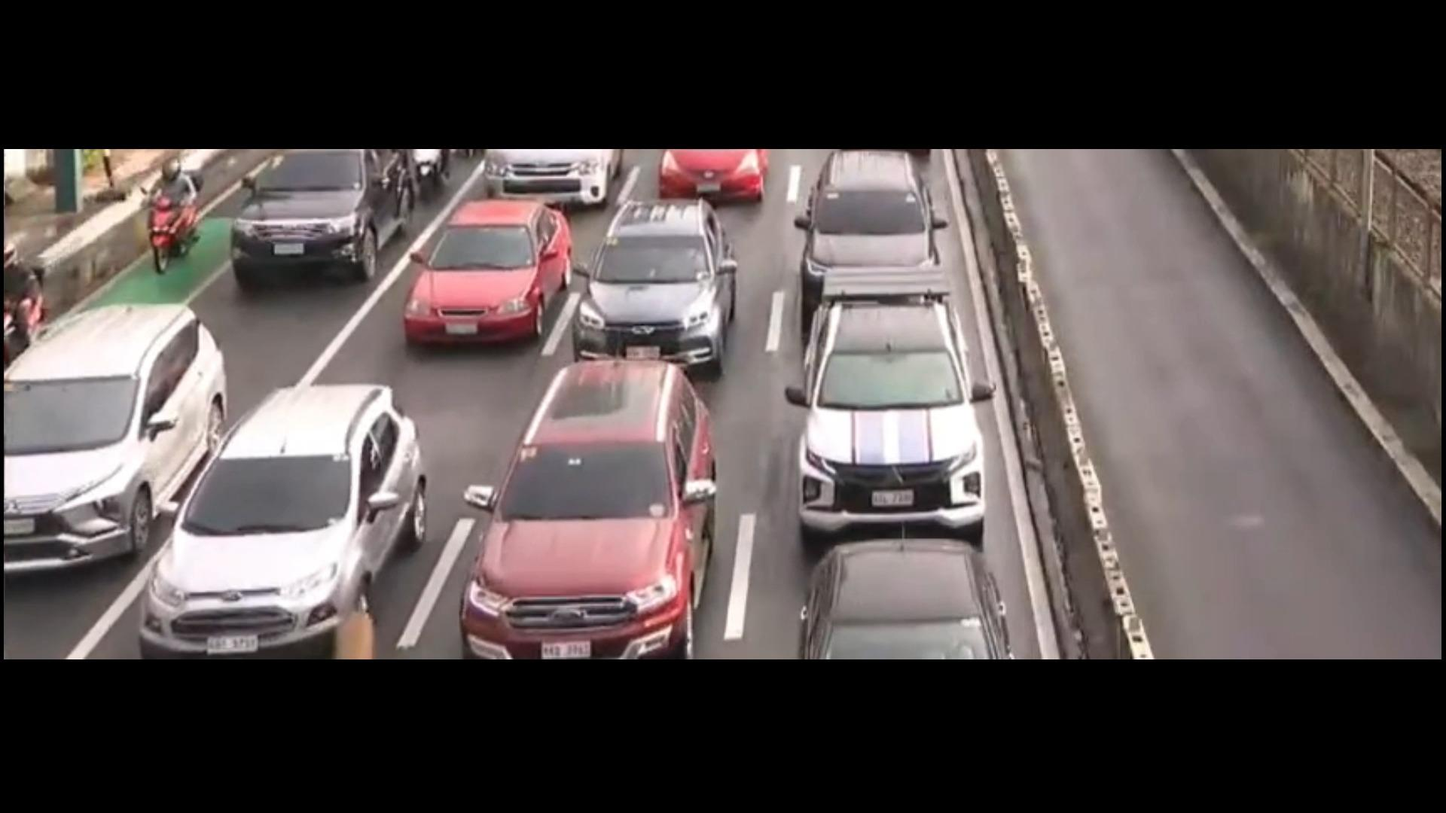Motorcycle: (123, 164, 209, 286), (0, 230, 63, 349), (401, 141, 448, 202)
SUV: (459, 345, 735, 651), (131, 377, 420, 653), (0, 286, 253, 564), (777, 286, 1000, 540), (775, 147, 951, 318), (564, 207, 735, 372), (784, 537, 1013, 656), (223, 138, 387, 284)
Sedan: (388, 185, 577, 366), (650, 149, 780, 198)
